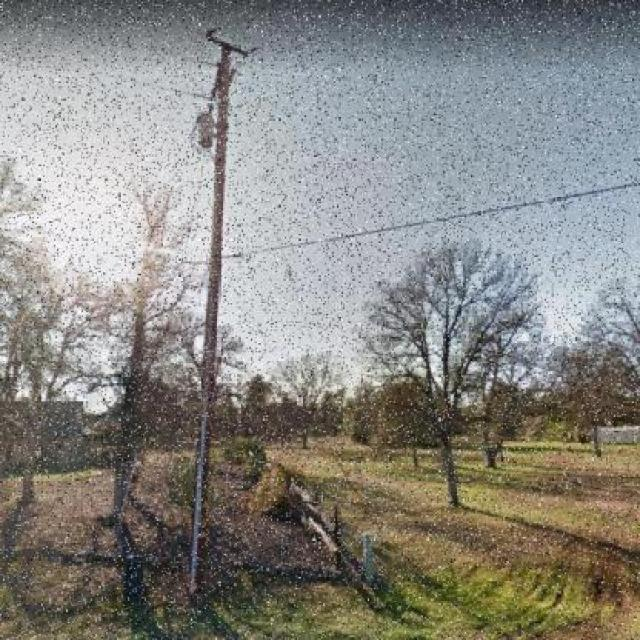pole: (164, 8, 270, 604)
